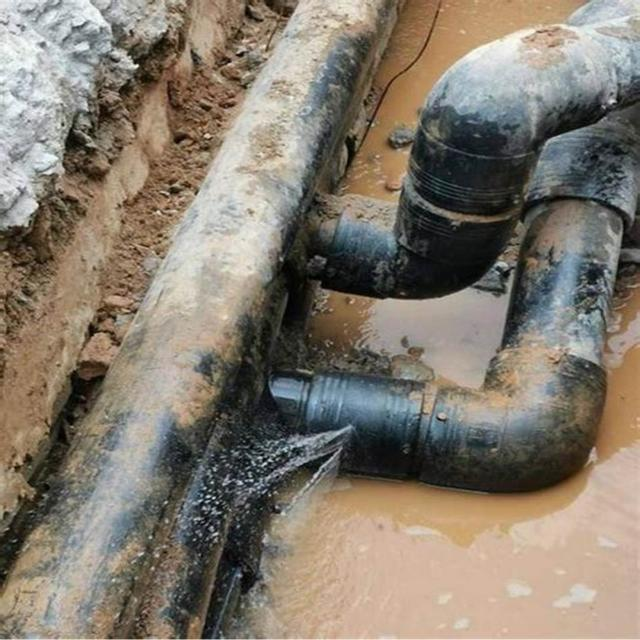pipe burst: (217, 421, 357, 532)
water accumulation: (219, 0, 640, 640)
